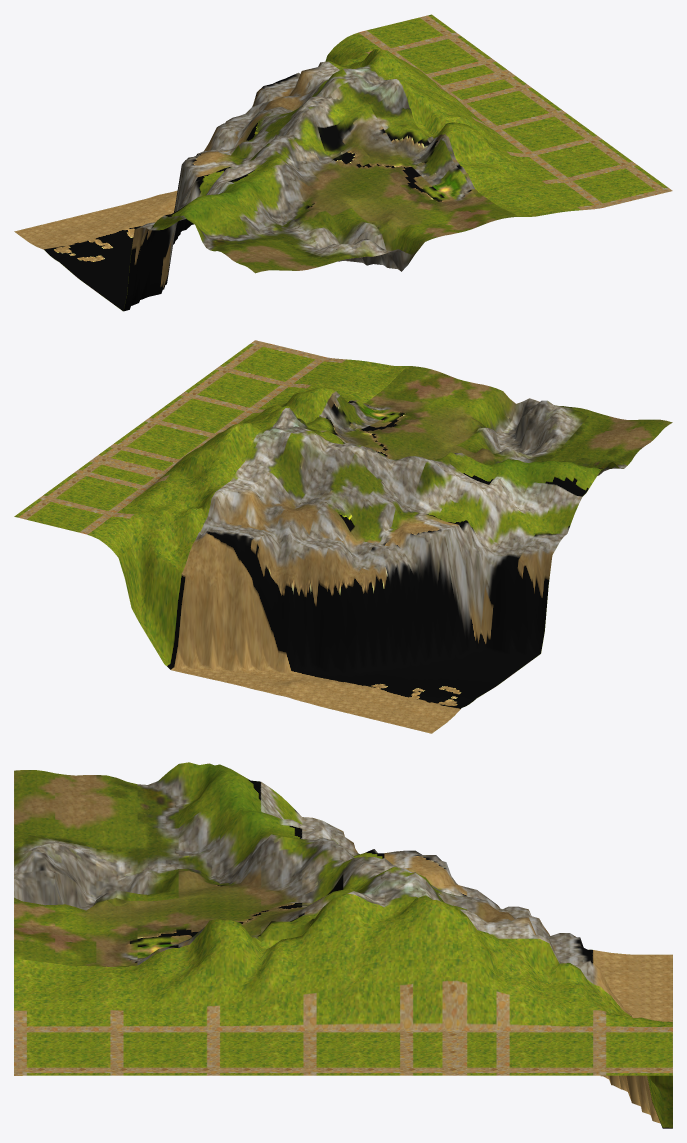
The model's file is terrain.glb.
3 renders of one model, top to bottom at view 1: azimuth 30°, elevation 25°; view 2: azimuth 150°, elevation 25°; view 3: azimuth 270°, elevation 25°, orthographic. The views are drawn at different scales.
Parts seen in each view (by area): view 1: terrain_3_4; view 2: terrain_3_4; view 3: terrain_3_4.
Part boxes in pixels (x1,y1,x2,y2): terrain_3_4: (14, 14, 672, 311); terrain_3_4: (14, 340, 672, 733); terrain_3_4: (14, 762, 672, 1128).
Size of the model in its own units: 512 by 208 by 512.
1 material, 1 textured.
